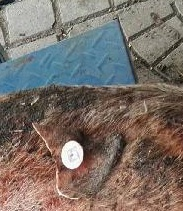text: (55, 130, 95, 176)
